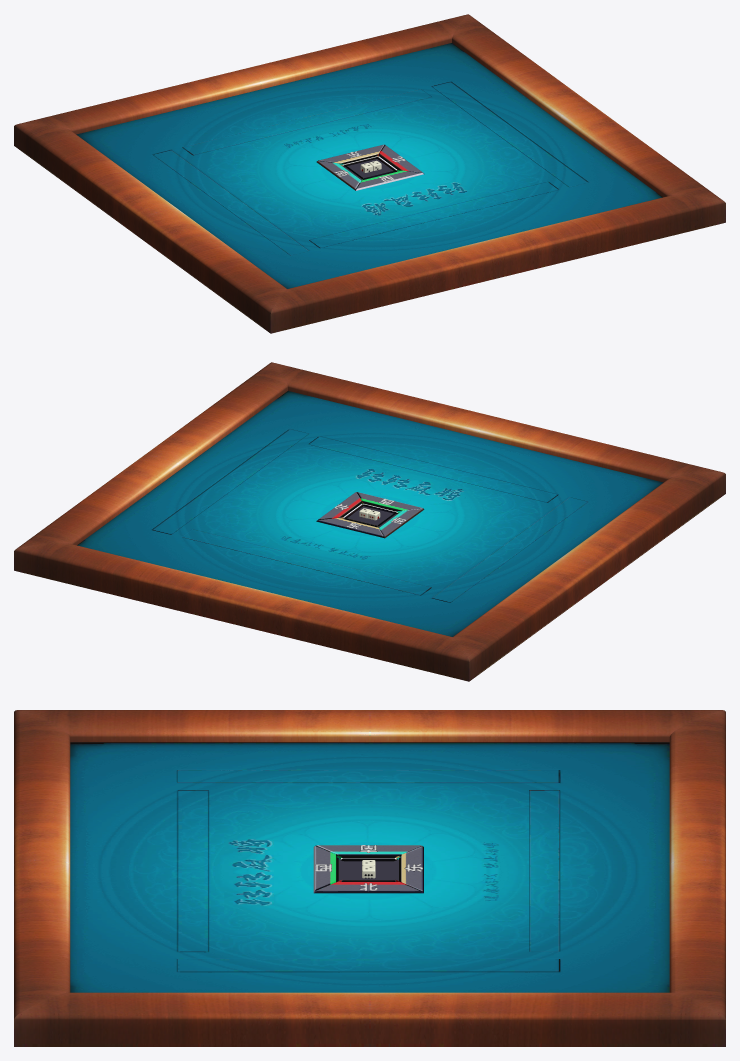
The model's file is desk.fbx.
3 views of the same model, one above another, from view 1: azimuth 30°, elevation 25°; view 2: azimuth 150°, elevation 25°; view 3: azimuth 270°, elevation 25° (orthographic). The views are drawn at different scales.
Visible parts, largest first — view 1: polySurface45, polySurface34, polySurface36, polySurface35, polySurface33, up_light; view 2: polySurface45, polySurface36, polySurface34, polySurface33, polySurface35, self_light; view 3: polySurface45, polySurface34, polySurface36, polySurface33, polySurface35, left_light, pCube46, right_light, up_light, self_light.
Part boxes in pixels (left/top/right/bottom): polySurface45: left=14, top=14, right=725, bottom=333; polySurface34: left=309, top=182, right=558, bottom=248; polySurface36: left=182, top=89, right=431, bottom=155; polySurface35: left=431, top=82, right=587, bottom=187; polySurface33: left=152, top=150, right=308, bottom=255; up_light: left=356, top=170, right=423, bottom=190; polySurface45: left=14, top=362, right=725, bottom=681; polySurface36: left=182, top=529, right=431, bottom=595; polySurface34: left=309, top=436, right=558, bottom=502; polySurface33: left=432, top=497, right=587, bottom=602; polySurface35: left=152, top=429, right=308, bottom=534; self_light: left=316, top=518, right=384, bottom=538; polySurface45: left=14, top=710, right=725, bottom=1046; polySurface34: left=177, top=790, right=208, bottom=951; polySurface36: left=529, top=790, right=559, bottom=951; polySurface33: left=177, top=770, right=559, bottom=782; polySurface35: left=177, top=959, right=559, bottom=971; left_light: left=314, top=882, right=423, bottom=893; pCube46: left=338, top=859, right=398, bottom=881; right_light: left=315, top=845, right=421, bottom=855; up_light: left=313, top=846, right=336, bottom=892; self_light: left=401, top=846, right=423, bottom=892.
Bounding box in the file's own units: 32.12 × 2.58 × 31.38.
